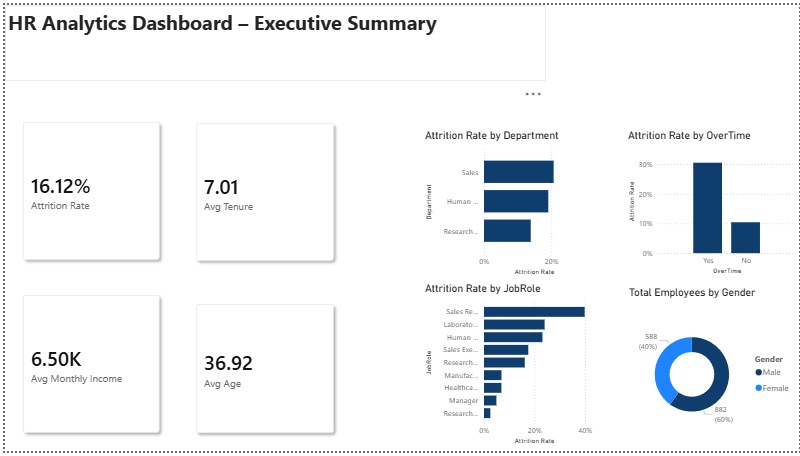

The page's visual inventory and layout, read from the dashboard file:
{"tool":"powerbi","page":{"name":"Executive Summary","canvas":[1280,720],"ordinal":0},"visuals":[{"type":"cardVisual","fields":{"Data":["WA_Fn-UseC_-HR-Employee-Attrition.Attrition Rate"]},"box":[0,158.9,278.6,280.4],"z":0},{"type":"cardVisual","fields":{"Data":["WA_Fn-UseC_-HR-Employee-Attrition.Avg Monthly Income"]},"box":[0,439.3,278.6,280.4],"z":1000},{"type":"cardVisual","fields":{"Data":["WA_Fn-UseC_-HR-Employee-Attrition.Avg Tenure"]},"box":[278.6,160.7,280.4,280.4],"z":2000},{"type":"cardVisual","fields":{"Data":["WA_Fn-UseC_-HR-Employee-Attrition.Avg Age"]},"box":[278.6,453.6,280.4,266.1],"z":3000},{"type":"clusteredBarChart","fields":{"Category":["WA_Fn-UseC_-HR-Employee-Attrition.Department"],"Y":["WA_Fn-UseC_-HR-Employee-Attrition.Attrition Rate"]},"box":[673.2,200,280.4,241.1],"z":4000},{"type":"clusteredBarChart","fields":{"Category":["WA_Fn-UseC_-HR-Employee-Attrition.JobRole"],"Y":["WA_Fn-UseC_-HR-Employee-Attrition.Attrition Rate"]},"box":[673.2,446.4,280.4,266.1],"z":5000},{"type":"columnChart","fields":{"Category":["WA_Fn-UseC_-HR-Employee-Attrition.OverTime"],"Y":["WA_Fn-UseC_-HR-Employee-Attrition.Attrition Rate"]},"box":[1000,200,280.4,239.3],"z":6000},{"type":"donutChart","fields":{"Category":["WA_Fn-UseC_-HR-Employee-Attrition.Gender"],"Y":["WA_Fn-UseC_-HR-Employee-Attrition.Total Employees"]},"box":[1001.8,453.6,278.6,266.1],"z":7000},{"type":"textbox","box":[0,0,873.2,123.2],"z":8000}]}

Visuals, with their boxes in screenshot pixels (x1, y1, x2, y2), scaled from the page's 1280x720 canvas onto the 800x456 screenshot:
cardVisual - WA_Fn-UseC_-HR-Employee-Attrition.Attrition Rate: <box>0,101,174,278</box>
cardVisual - WA_Fn-UseC_-HR-Employee-Attrition.Avg Monthly Income: <box>0,278,174,455</box>
cardVisual - WA_Fn-UseC_-HR-Employee-Attrition.Avg Tenure: <box>174,102,349,279</box>
cardVisual - WA_Fn-UseC_-HR-Employee-Attrition.Avg Age: <box>174,287,349,455</box>
clusteredBarChart - WA_Fn-UseC_-HR-Employee-Attrition.Department x WA_Fn-UseC_-HR-Employee-Attrition.Attrition Rate: <box>421,127,596,279</box>
clusteredBarChart - WA_Fn-UseC_-HR-Employee-Attrition.JobRole x WA_Fn-UseC_-HR-Employee-Attrition.Attrition Rate: <box>421,283,596,451</box>
columnChart - WA_Fn-UseC_-HR-Employee-Attrition.OverTime x WA_Fn-UseC_-HR-Employee-Attrition.Attrition Rate: <box>625,127,799,278</box>
donutChart - WA_Fn-UseC_-HR-Employee-Attrition.Gender x WA_Fn-UseC_-HR-Employee-Attrition.Total Employees: <box>626,287,799,455</box>
textbox: <box>0,0,546,78</box>
